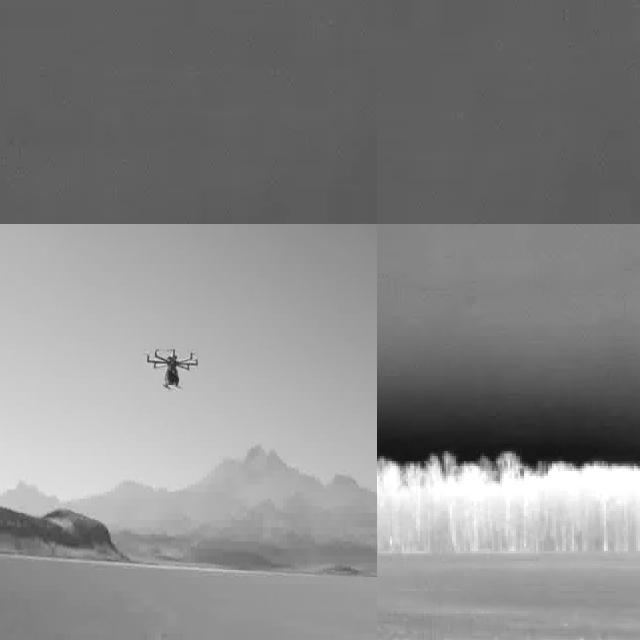0: (261, 217, 283, 224)
drone: (146, 345, 202, 390)
